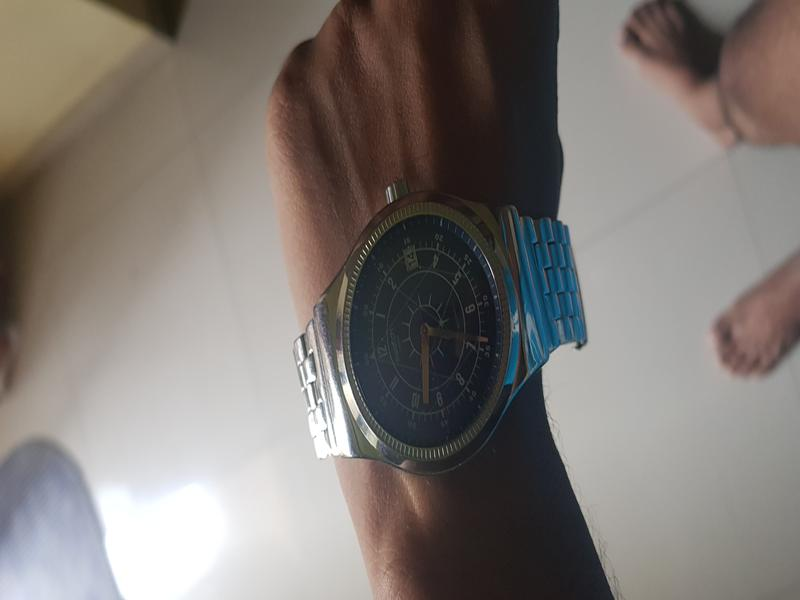watch: (261, 180, 630, 464)
